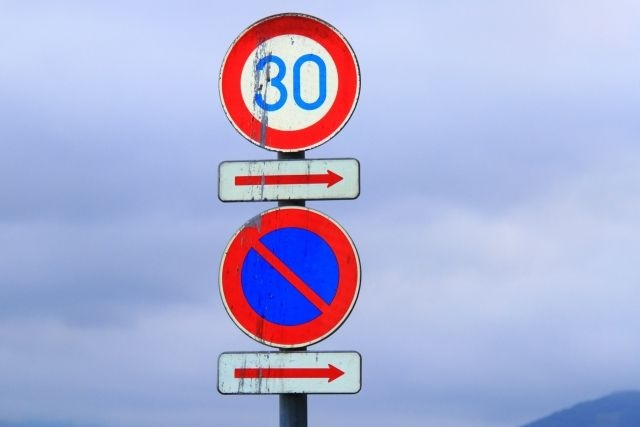Prohibition_sign: (200, 197, 374, 361)
